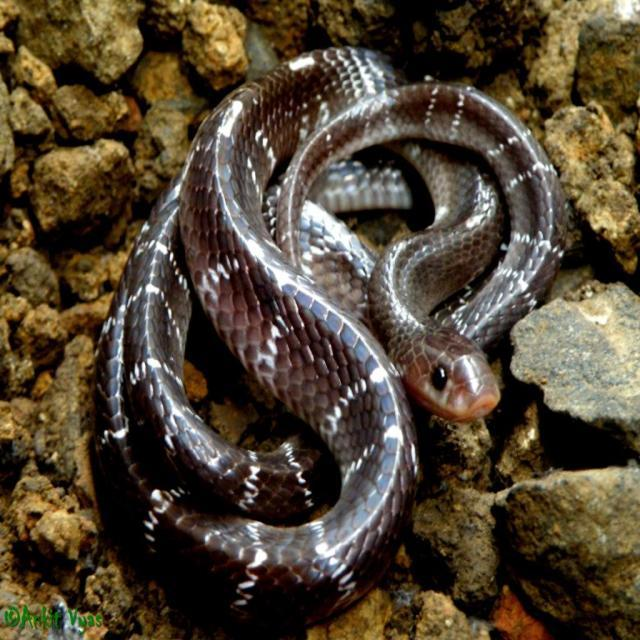Snake: (87, 33, 576, 635)
